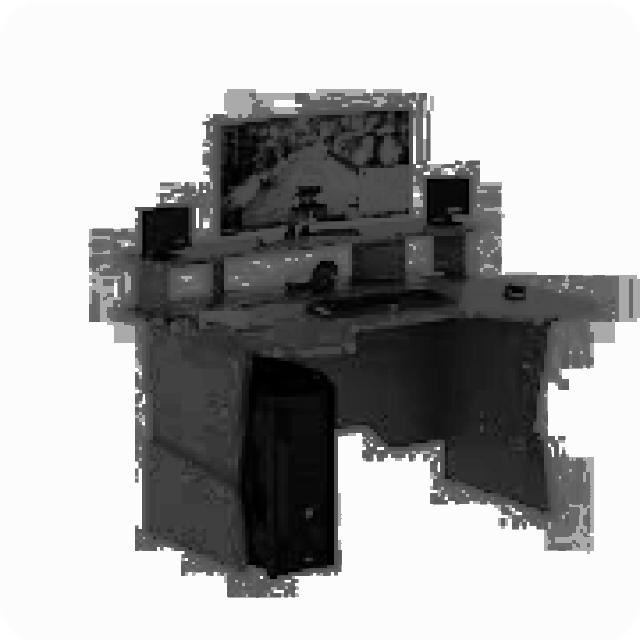table: (121, 218, 594, 576)
